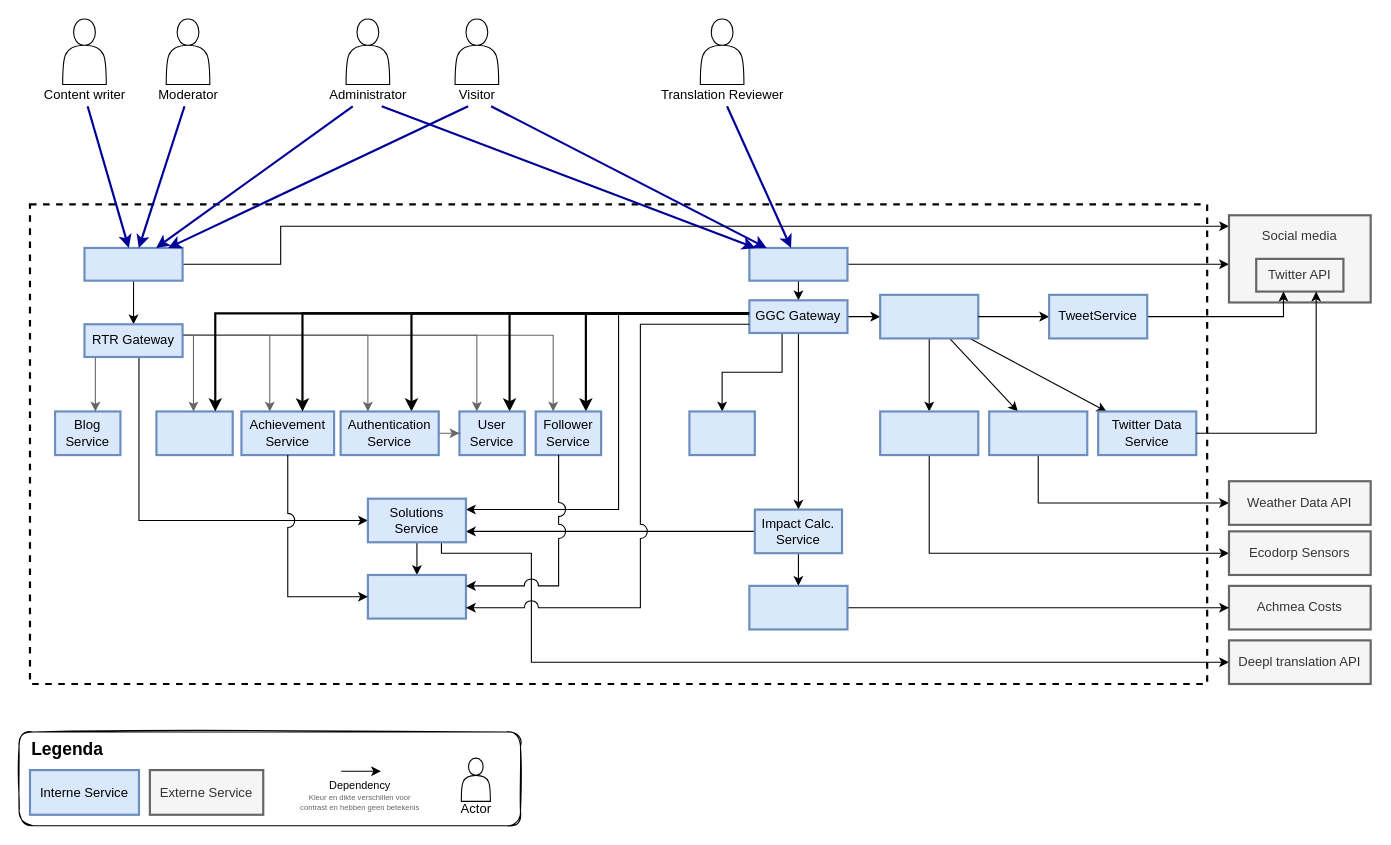
Image size: 1391x845. Some labels were removed from this diagram. The centre of each missing label's shape, as x and y in pixels:
"Achmea Data Service" belongs at point 798,607.
"Comment Service" belongs at point 194,433.
"Ecodorp Data Service" belongs at point 929,433.
"GGC website" belongs at point 798,263.
"Notification Service" belongs at point 416,596.
"Poll Service" belongs at point 721,433.
"RTR website" belongs at point 133,263.
"TwitterBot Service" belongs at point 929,316.
"Weather Data Service" belongs at point 1038,433.
